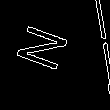N_E: (10, 22, 76, 77)
